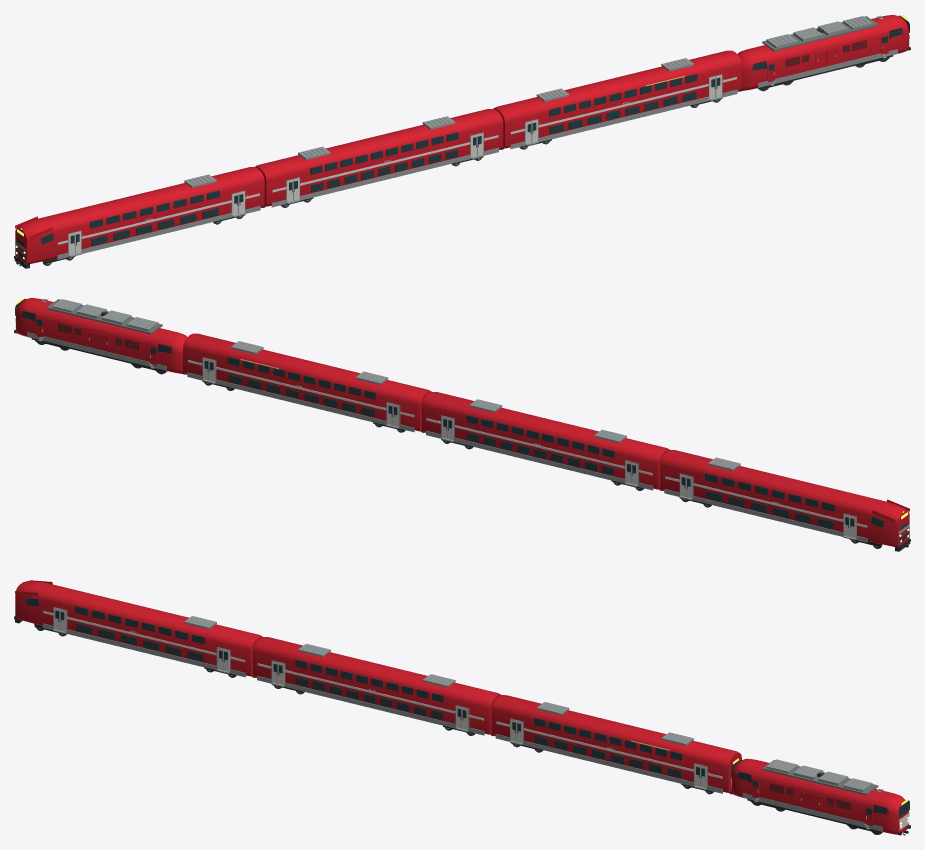
File: db-regional-express-blender.glb
3 views of the same model, one above another, from view 1: azimuth 30°, elevation 25°; view 2: azimuth 150°, elevation 25°; view 3: azimuth 330°, elevation 25° (orthographic).
Visible parts, largest first — view 1: driving_trailer_double_deck_body.001, mixed_class_double_deck_body.001, second_class_double_deck_body.001, br245_lofted_body.001, mixed_class_lower_skirt_-1.001, second_class_lower_skirt_-1.001, driving_trailer_lower_skirt_-1.001, br245_lower_grey_band_-1.001, mixed_class_white_belt_-1.001, second_class_white_belt_-1.001, driving_trailer_white_belt_-1.001; view 2: driving_trailer_double_deck_body.001, mixed_class_double_deck_body.001, second_class_double_deck_body.001, br245_lofted_body.001, mixed_class_lower_skirt_1.001, second_class_lower_skirt_1.001, driving_trailer_lower_skirt_1.001, br245_lower_grey_band_1.001, mixed_class_white_belt_1.001, second_class_white_belt_1.001, driving_trailer_white_belt_1.001; view 3: driving_trailer_double_deck_body.001, mixed_class_double_deck_body.001, second_class_double_deck_body.001, br245_lofted_body.001, second_class_lower_skirt_-1.001, mixed_class_lower_skirt_-1.001, driving_trailer_lower_skirt_-1.001, br245_lower_grey_band_-1.001, second_class_white_belt_-1.001, mixed_class_white_belt_-1.001.
Boxes of the visible parts, x1=… form: driving_trailer_double_deck_body.001: x1=15, y1=167, x2=264, y2=263; mixed_class_double_deck_body.001: x1=493, y1=50, x2=741, y2=148; second_class_double_deck_body.001: x1=255, y1=109, x2=503, y2=206; br245_lofted_body.001: x1=737, y1=15, x2=908, y2=90; mixed_class_lower_skirt_-1.001: x1=510, y1=89, x2=737, y2=149; second_class_lower_skirt_-1.001: x1=271, y1=147, x2=498, y2=207; driving_trailer_lower_skirt_-1.001: x1=57, y1=206, x2=260, y2=259; br245_lower_grey_band_-1.001: x1=758, y1=49, x2=897, y2=87; mixed_class_white_belt_-1.001: x1=510, y1=77, x2=736, y2=134; second_class_white_belt_-1.001: x1=272, y1=135, x2=498, y2=192; driving_trailer_white_belt_-1.001: x1=57, y1=193, x2=259, y2=244; driving_trailer_double_deck_body.001: x1=660, y1=450, x2=909, y2=546; mixed_class_double_deck_body.001: x1=183, y1=333, x2=431, y2=431; second_class_double_deck_body.001: x1=421, y1=392, x2=669, y2=489; br245_lofted_body.001: x1=16, y1=298, x2=187, y2=373; mixed_class_lower_skirt_1.001: x1=187, y1=372, x2=414, y2=432; second_class_lower_skirt_1.001: x1=426, y1=430, x2=653, y2=490; driving_trailer_lower_skirt_1.001: x1=664, y1=489, x2=867, y2=542; br245_lower_grey_band_1.001: x1=27, y1=332, x2=166, y2=370; mixed_class_white_belt_1.001: x1=188, y1=360, x2=414, y2=417; second_class_white_belt_1.001: x1=426, y1=418, x2=652, y2=475; driving_trailer_white_belt_1.001: x1=665, y1=476, x2=867, y2=527; driving_trailer_double_deck_body.001: x1=15, y1=581, x2=262, y2=676; mixed_class_double_deck_body.001: x1=491, y1=695, x2=741, y2=792; second_class_double_deck_body.001: x1=253, y1=637, x2=500, y2=734; br245_lofted_body.001: x1=731, y1=758, x2=908, y2=834; second_class_lower_skirt_-1.001: x1=257, y1=676, x2=484, y2=735; mixed_class_lower_skirt_-1.001: x1=495, y1=734, x2=722, y2=793; driving_trailer_lower_skirt_-1.001: x1=42, y1=623, x2=245, y2=677; br245_lower_grey_band_-1.001: x1=742, y1=793, x2=882, y2=831; second_class_white_belt_-1.001: x1=257, y1=663, x2=483, y2=720; mixed_class_white_belt_-1.001: x1=496, y1=721, x2=722, y2=778.
Bounding box in the file's own units: 101 × 4.88 × 3.41.
